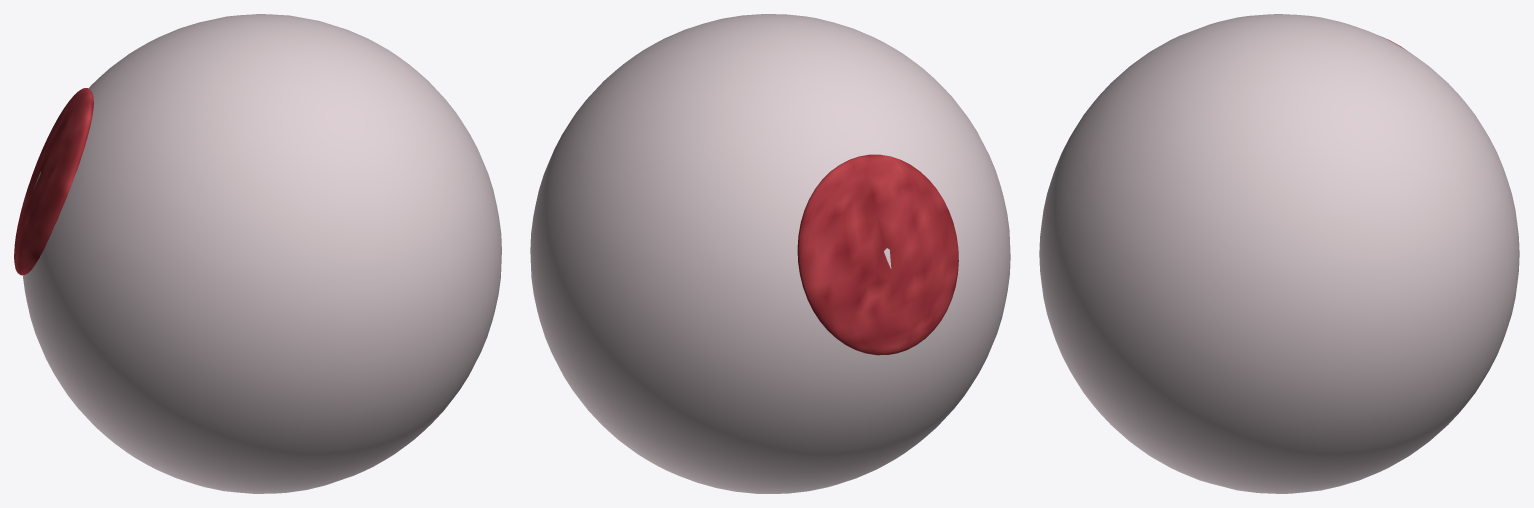
Rendered from hafta_31.glb.
3 renders of one model, left to right at view 1: azimuth 30°, elevation 25°; view 2: azimuth 150°, elevation 25°; view 3: azimuth 270°, elevation 25°, orthographic.
Parts seen in each view (by area): view 1: Amniyon_kesesi, Plasenta; view 2: Amniyon_kesesi, Plasenta; view 3: Amniyon_kesesi.
Part boxes in pixels (bbox=[...]): Amniyon_kesesi: bbox=[22, 14, 501, 493]; Plasenta: bbox=[14, 88, 93, 275]; Amniyon_kesesi: bbox=[530, 14, 1010, 493]; Plasenta: bbox=[797, 154, 958, 355]; Amniyon_kesesi: bbox=[1039, 14, 1519, 493].
Bounding box in the file's own units: 1.64 × 1.64 × 1.64.
